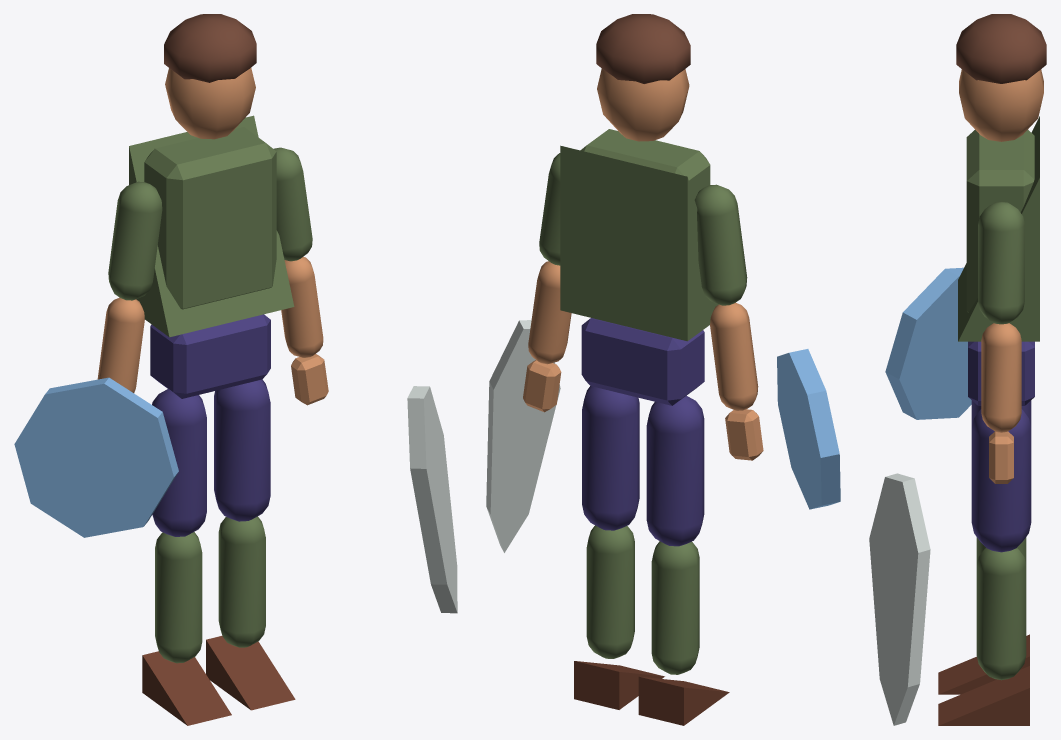
The model's file is adventurer.rustic.glb.
3 renders of one model, left to right at view 1: azimuth 30°, elevation 25°; view 2: azimuth 150°, elevation 25°; view 3: azimuth 270°, elevation 25°, orthographic.
Parts seen in each view (by area): view 1: accessory.off-hand, torso, pelvis, thigh.right, accessory.main-hand, tunic, shin.right, shin.left, thigh.left, hair, upper-arm.left, head (+6 smaller); view 2: tunic, accessory.main-hand, pelvis, thigh.left, thigh.right, accessory.off-hand, shin.right, shin.left, hair, upper-arm.left, head, forearm.left (+7 smaller); view 3: accessory.main-hand, accessory.off-hand, shin.right, thigh.right, torso, upper-arm.right, hair, head, tunic, forearm.right, foot.right, pelvis (+2 smaller).
Part boxes in pixels (left/top/right/bottom): accessory.off-hand: left=14, top=377, right=178, bottom=537; torso: left=144, top=127, right=276, bottom=309; pelvis: left=150, top=314, right=270, bottom=398; thigh.right: left=214, top=379, right=270, bottom=521; accessory.main-hand: left=407, top=386, right=457, bottom=613; tunic: left=129, top=115, right=294, bottom=337; shin.right: left=218, top=516, right=265, bottom=647; shin.left: left=155, top=532, right=202, bottom=663; thigh.left: left=152, top=389, right=206, bottom=536; hair: left=164, top=14, right=256, bottom=82; upper-arm.left: left=108, top=181, right=162, bottom=300; head: left=165, top=68, right=255, bottom=139; tunic: left=560, top=145, right=718, bottom=341; accessory.main-hand: left=486, top=320, right=560, bottom=552; pelvis: left=581, top=318, right=704, bottom=405; thigh.left: left=646, top=395, right=704, bottom=546; thigh.right: left=582, top=386, right=639, bottom=530; accessory.off-hand: left=777, top=349, right=840, bottom=509; shin.right: left=586, top=525, right=634, bottom=658; shin.left: left=651, top=541, right=699, bottom=674; hair: left=596, top=14, right=690, bottom=83; upper-arm.left: left=694, top=184, right=747, bottom=305; head: left=597, top=69, right=689, bottom=141; forearm.left: left=710, top=302, right=758, bottom=410; accessory.main-hand: left=869, top=473, right=930, bottom=725; accessory.off-hand: left=885, top=267, right=971, bottom=419; shin.right: left=976, top=548, right=1026, bottom=680; thigh.right: left=971, top=409, right=1031, bottom=552; torso: left=966, top=130, right=1034, bottom=312; upper-arm.right: left=978, top=201, right=1024, bottom=324; hair: left=956, top=14, right=1046, bottom=83; head: left=959, top=69, right=1043, bottom=141; tunic: left=958, top=116, right=1039, bottom=341; forearm.right: left=981, top=323, right=1021, bottom=432; foot.right: left=938, top=666, right=1029, bottom=725; pelvis: left=968, top=341, right=1034, bottom=405.
Bounding box in the file's own units: 1.87 × 3.03 × 0.7164.
